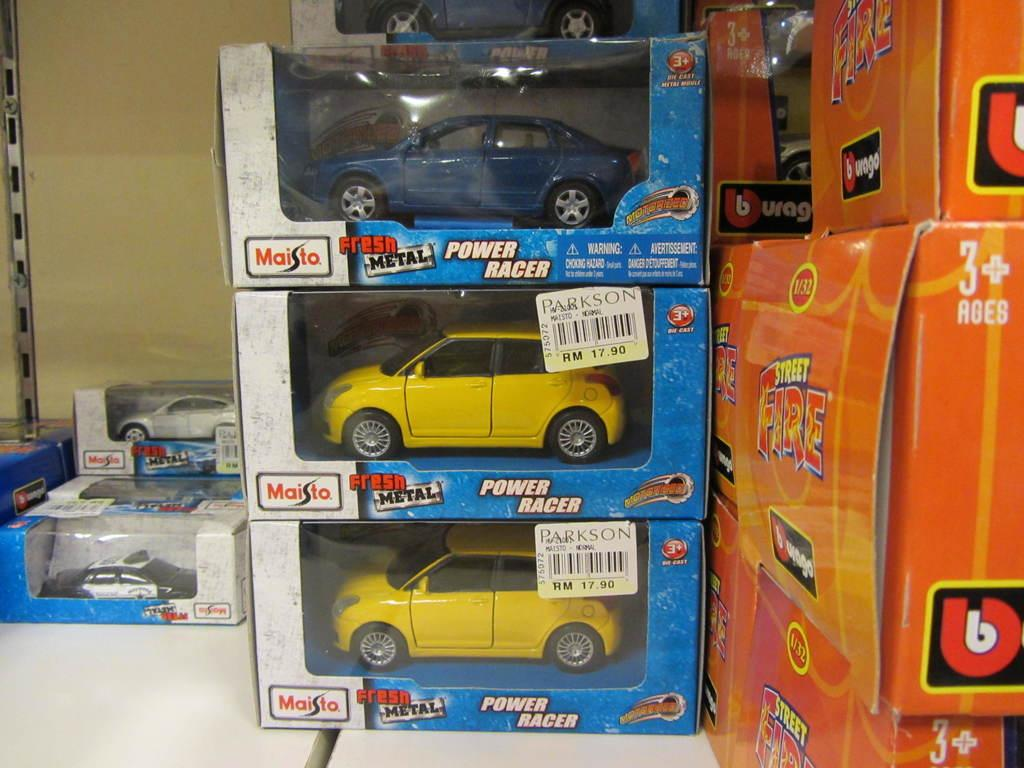Car: (332, 524, 628, 672), (321, 324, 628, 465), (298, 114, 648, 225), (367, 0, 612, 42), (45, 548, 198, 598), (110, 394, 239, 439)
